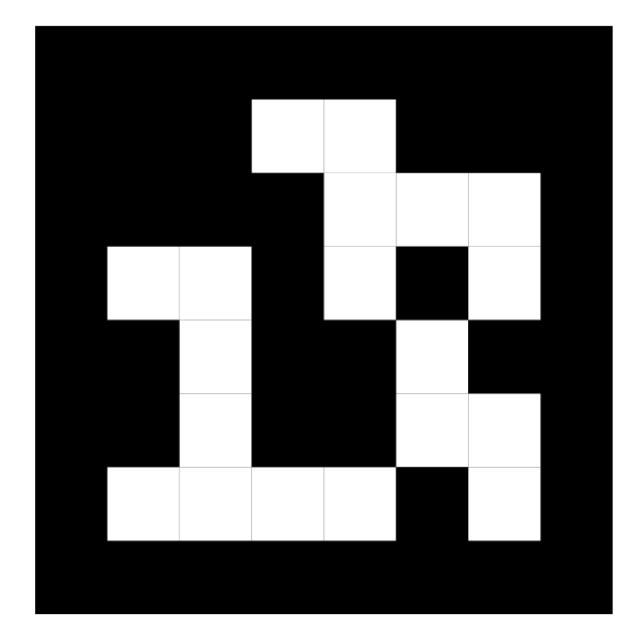aruco: (19, 13, 630, 631)
